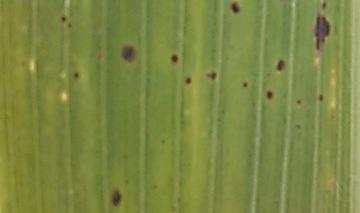tarspot: (313, 13, 331, 51), (121, 44, 135, 63), (112, 188, 122, 206), (276, 58, 286, 72), (231, 1, 240, 14), (206, 70, 217, 80), (170, 53, 179, 63), (183, 75, 192, 85), (120, 151, 129, 160), (159, 136, 167, 146), (266, 89, 273, 100), (59, 13, 67, 22), (149, 183, 158, 190), (318, 92, 324, 102), (176, 194, 182, 204), (241, 80, 248, 88), (295, 96, 302, 104), (123, 178, 130, 186), (294, 122, 301, 129), (73, 70, 79, 78), (322, 1, 327, 10), (67, 21, 73, 28)
